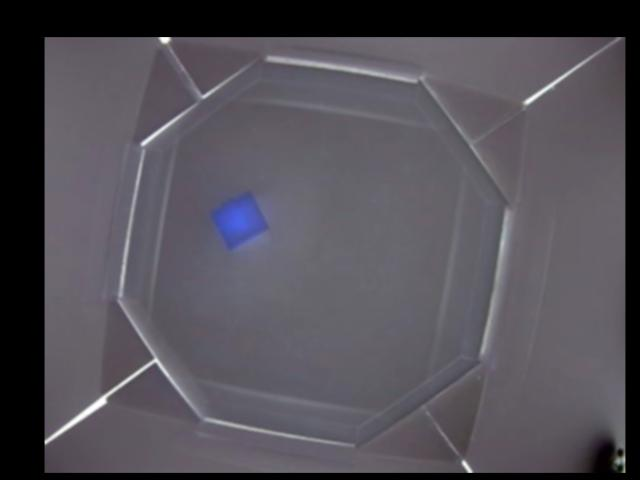Potato: (210, 193, 267, 252)
